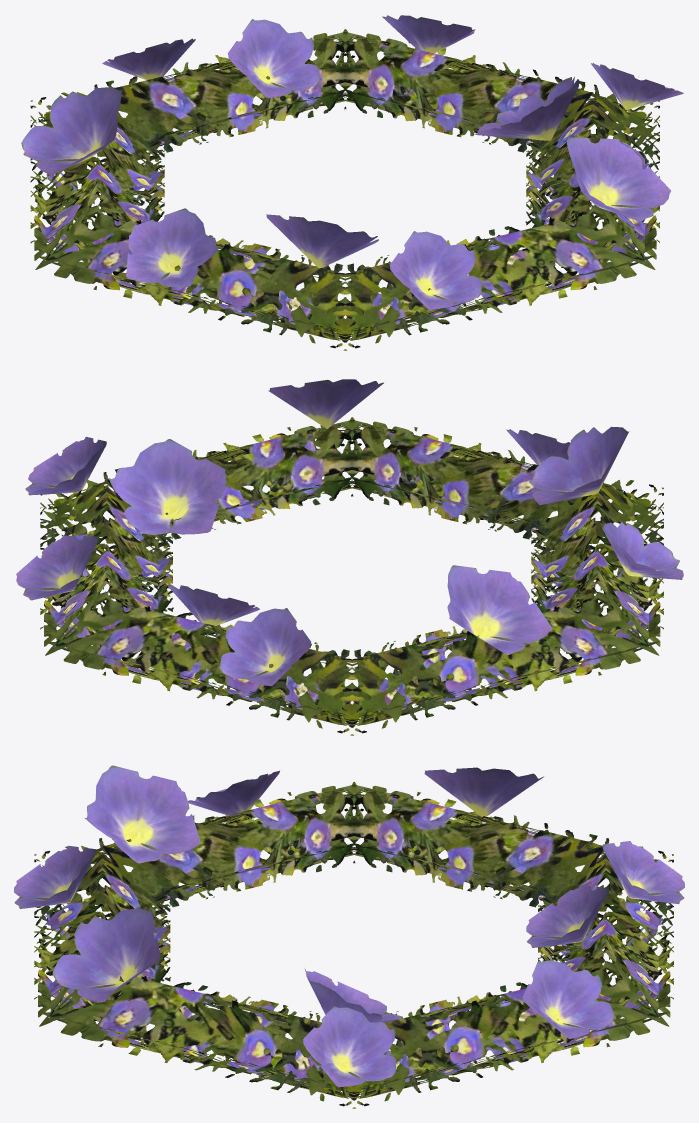
The model's file is flowerswreath02.obj.
3 renders of one model, top to bottom at view 1: azimuth 30°, elevation 25°; view 2: azimuth 150°, elevation 25°; view 3: azimuth 270°, elevation 25°, orthographic. The views are drawn at different scales.
Visible parts, largest first — view 1: flowerswreath02; view 2: flowerswreath02; view 3: flowerswreath02.
Boxes of the visible parts, box(x1,y1,x2,y2) form: flowerswreath02: box(21, 15, 683, 350); flowerswreath02: box(16, 379, 683, 735); flowerswreath02: box(14, 765, 684, 1108).
Bounding box in the file's own units: 1.57 × 0.3061 × 1.39.
1 material, 1 textured.
